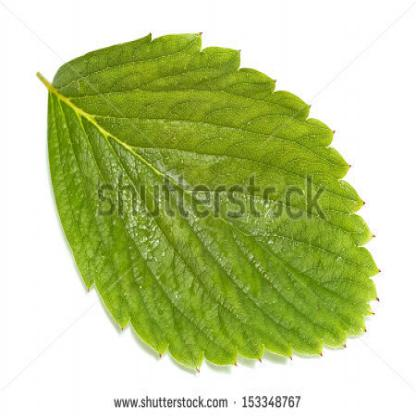strawberry leaf: (35, 24, 383, 380)
